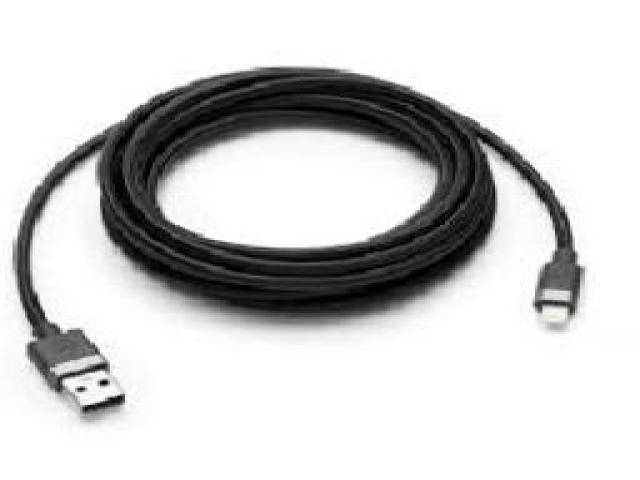wire: (10, 62, 582, 412)
